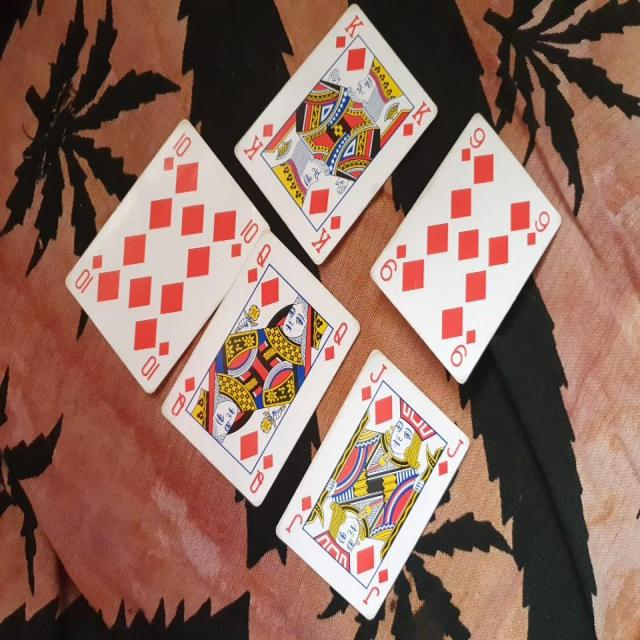10 Diamonds: (61, 116, 268, 394)
9 Diamonds: (367, 110, 562, 385)
J Diamonds: (271, 346, 470, 621)
K Diamonds: (233, 1, 440, 268)
Q Diamonds: (159, 226, 362, 509)
